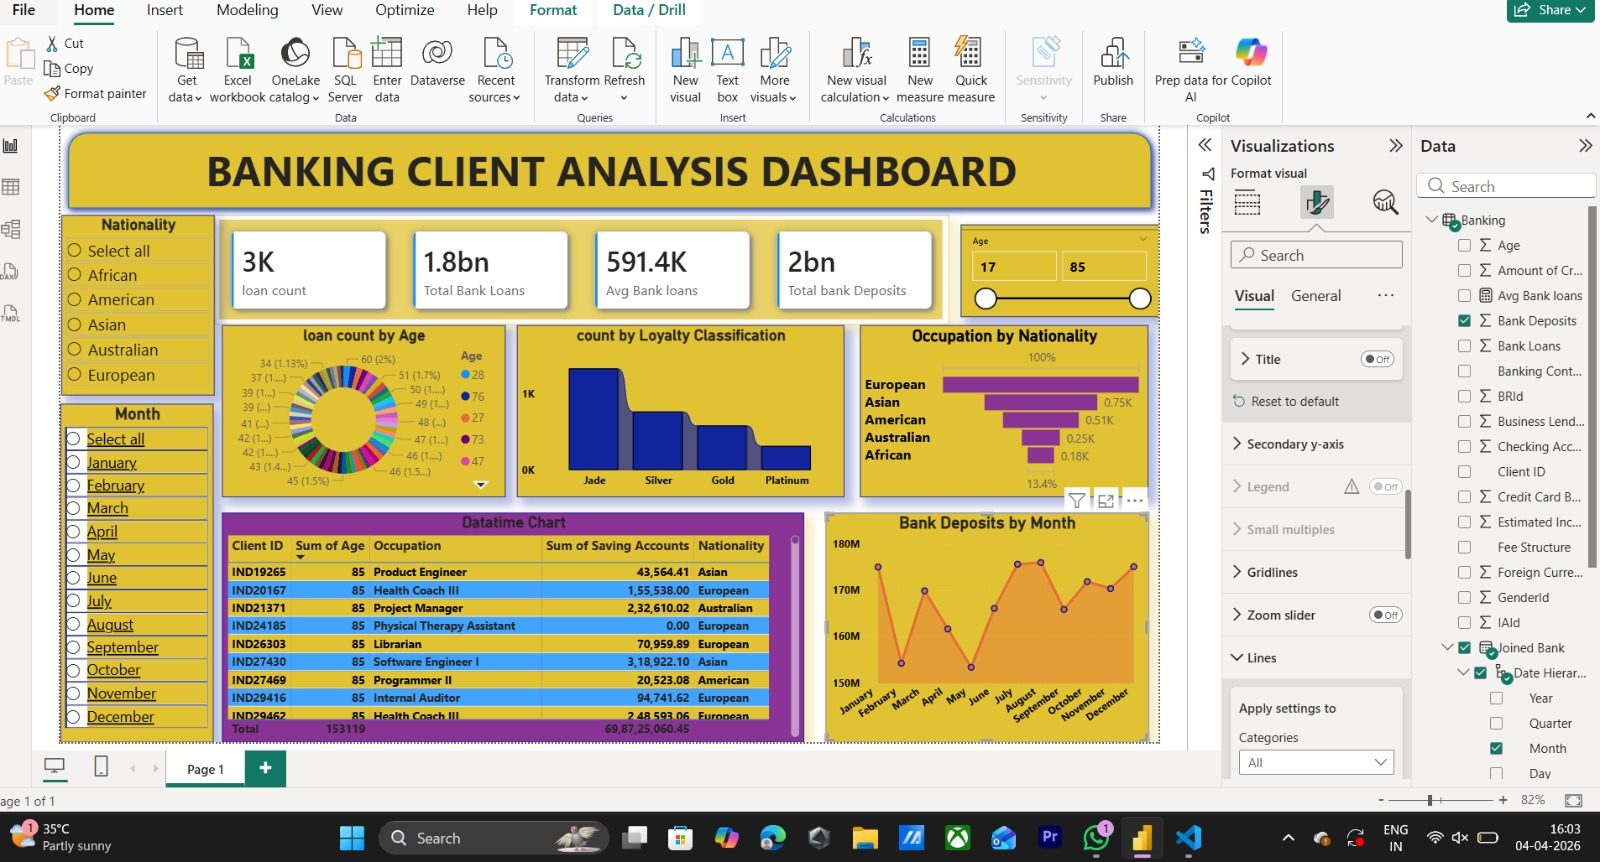

Layout of this report page (visuals, bound fields, positions):
{"tool":"powerbi","page":{"name":"Page 1","canvas":[1280,720],"ordinal":0},"visuals":[{"type":"cardVisual","fields":{"Data":["Banking.loan count","Banking.Total Bank Loans","Banking.Avg Bank loans","Banking.Total bank Deposits"]},"box":[179.8,105.2,856,128.4],"z":0},{"type":"shape","box":[0,0,1280.3,106.4],"z":1000},{"type":"textbox","box":[90.5,14.7,1103,77],"z":2000},{"type":"listSlicer","fields":{"Values":["Banking.Nationality"]},"box":[1.2,105.2,178.5,210.3],"z":3000},{"type":"listSlicer","fields":{"Values":["Banking.Joined Bank.Variation.Date Hierarchy.Month"]},"box":[0,325.3,178.5,395],"z":4000},{"type":"slicer","fields":{"Values":["Banking.Age"]},"box":[1049.2,116.2,231.1,107.6],"z":5000},{"type":"donutChart","fields":{"Category":["Banking.Age"],"Y":["Banking.loan count"]},"box":[188.3,233.6,330.2,200.5],"z":6000},{"type":"columnChart","title":"count by Loyalty Classification","fields":{"Category":["Banking.Loyalty Classification"],"Y":["Banking.loan count"]},"box":[531.9,233.6,381.5,200.5],"z":7000},{"type":"funnel","title":" Occupation by Nationality","fields":{"Category":["Banking.Nationality","Banking.Occupation"],"Y":["CountNonNull(Banking.Occupation)"]},"box":[931.8,233.6,336.3,200.5],"z":8000},{"type":"tableEx","title":"Datatime Chart","fields":{"Values":["Banking.Client ID","Sum(Banking.Age)","Banking.Occupation","Sum(Banking.Saving Accounts)","Banking.Nationality"]},"box":[188.3,452.4,678.7,267.8],"z":9000},{"type":"areaChart","title":" Bank Deposits by Month","fields":{"Category":["Banking.Joined Bank.Variation.Date Hierarchy.Month"],"Y":["Sum(Banking.Bank Deposits)"]},"box":[891.4,452.4,376.6,267.8],"z":9001}]}

Visuals, with their boxes on the page's 1280x720 design canvas (x1, y1, x2, y2). These are canvas units, not pixel positions in the 1600x862 screenshot, which may show the page scaled, cropped or inside an application window:
cardVisual - Banking.loan count x Banking.Total Bank Loans: [x1=180, y1=105, x2=1036, y2=234]
shape: [x1=0, y1=0, x2=1280, y2=106]
textbox: [x1=90, y1=15, x2=1194, y2=92]
listSlicer - Banking.Nationality: [x1=1, y1=105, x2=180, y2=316]
listSlicer - Banking.Joined Bank.Variation.Date Hierarchy.Month: [x1=0, y1=325, x2=178, y2=720]
slicer - Banking.Age: [x1=1049, y1=116, x2=1280, y2=224]
donutChart - Banking.Age x Banking.loan count: [x1=188, y1=234, x2=518, y2=434]
"count by Loyalty Classification" columnChart: [x1=532, y1=234, x2=913, y2=434]
" Occupation by Nationality" funnel: [x1=932, y1=234, x2=1268, y2=434]
"Datatime Chart" tableEx: [x1=188, y1=452, x2=867, y2=720]
" Bank Deposits by Month" areaChart: [x1=891, y1=452, x2=1268, y2=720]
